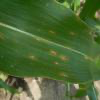Corn leaf blight: (0, 2, 99, 84)
